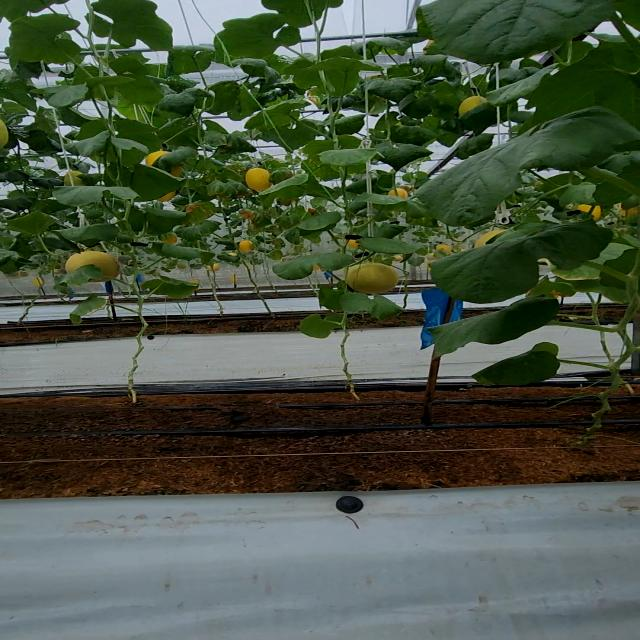Rear-melon: (350, 264, 399, 291), (245, 165, 268, 192)
